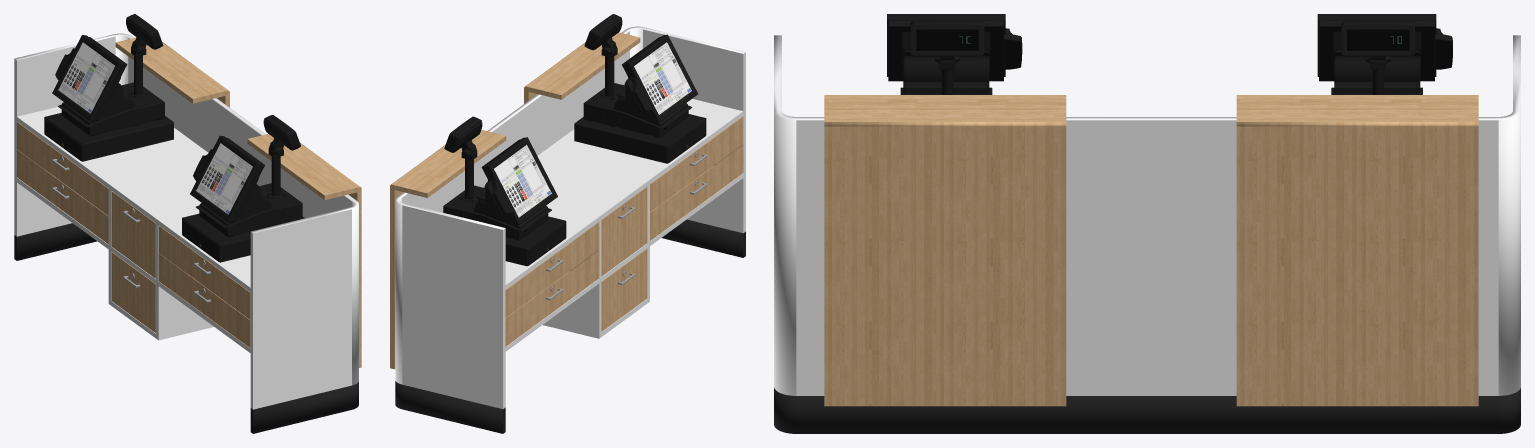
File: cash_register.glb
3 renders of one model, left to right at view 1: azimuth 30°, elevation 25°; view 2: azimuth 150°, elevation 25°; view 3: azimuth 270°, elevation 25°, orthographic. The views are drawn at different scales.
Visible parts, largest first — view 1: G-__577875_28, G-__577857_26, cash resgi#5.001_41, cash resgi#5_30, G-__577812_21, G-__577605_0, G-__577623_1, drawer bas_32, G-__577641_2, G-__577713_10, G-__577704_9, G-__577677_6 (+11 smaller); view 2: G-__577875_28, G-__577857_26, cash resgi#5.001_41, cash resgi#5_30, G-__577812_21, G-__577623_1, drawer bas.001_43, G-__577605_0, G-__577641_2, G-__577713_10, G-__577677_6, G-__577704_9 (+11 smaller); view 3: G-__577605_0, G-__577623_1, G-__577875_28, G-__577812_21, cash resgi#5_30, cash resgi#5.001_41.
Part boxes in pixels (x1=…): G-__577875_28: x1=14, y1=33, x2=358, y2=409; G-__577857_26: x1=17, y1=107, x2=250, y2=292; cash resgi#5.001_41: x1=190, y1=115, x2=302, y2=237; cash resgi#5_30: x1=52, y1=14, x2=164, y2=136; G-__577812_21: x1=14, y1=223, x2=358, y2=433; G-__577605_0: x1=247, y1=134, x2=361, y2=367; G-__577623_1: x1=115, y1=37, x2=229, y2=107; drawer bas_32: x1=44, y1=113, x2=173, y2=161; G-__577641_2: x1=158, y1=253, x2=250, y2=348; G-__577713_10: x1=17, y1=149, x2=108, y2=243; G-__577704_9: x1=159, y1=225, x2=250, y2=319; G-__577677_6: x1=17, y1=122, x2=108, y2=215; G-__577875_28: x1=395, y1=26, x2=745, y2=408; G-__577857_26: x1=505, y1=99, x2=743, y2=289; cash resgi#5.001_41: x1=583, y1=14, x2=697, y2=138; cash resgi#5_30: x1=443, y1=116, x2=557, y2=240; G-__577812_21: x1=395, y1=219, x2=745, y2=433; G-__577623_1: x1=390, y1=129, x2=506, y2=369; drawer bas.001_43: x1=574, y1=114, x2=706, y2=163; G-__577605_0: x1=524, y1=32, x2=640, y2=103; G-__577641_2: x1=650, y1=144, x2=743, y2=240; G-__577713_10: x1=505, y1=250, x2=599, y2=346; G-__577677_6: x1=505, y1=222, x2=598, y2=317; G-__577704_9: x1=650, y1=116, x2=742, y2=211; G-__577605_0: x1=824, y1=95, x2=1066, y2=406; G-__577623_1: x1=1236, y1=95, x2=1478, y2=406; G-__577875_28: x1=774, y1=35, x2=1520, y2=395; G-__577812_21: x1=774, y1=387, x2=1520, y2=433; cash resgi#5_30: x1=1317, y1=14, x2=1452, y2=94; cash resgi#5.001_41: x1=887, y1=14, x2=1022, y2=94.
Size of the model in its own units: 0.7307 by 1.35 by 2.34.
20 materials, 8 textured.
